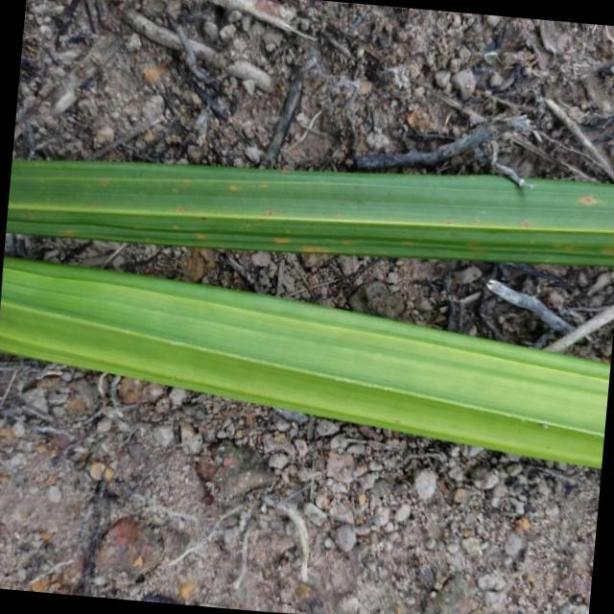nitrogen: (1, 255, 614, 468), (7, 153, 614, 268)
